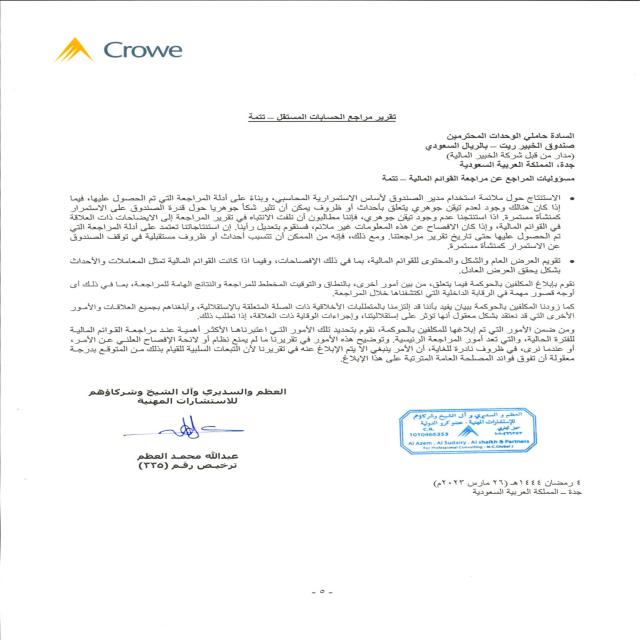auditor_report: (235, 102, 411, 132)
